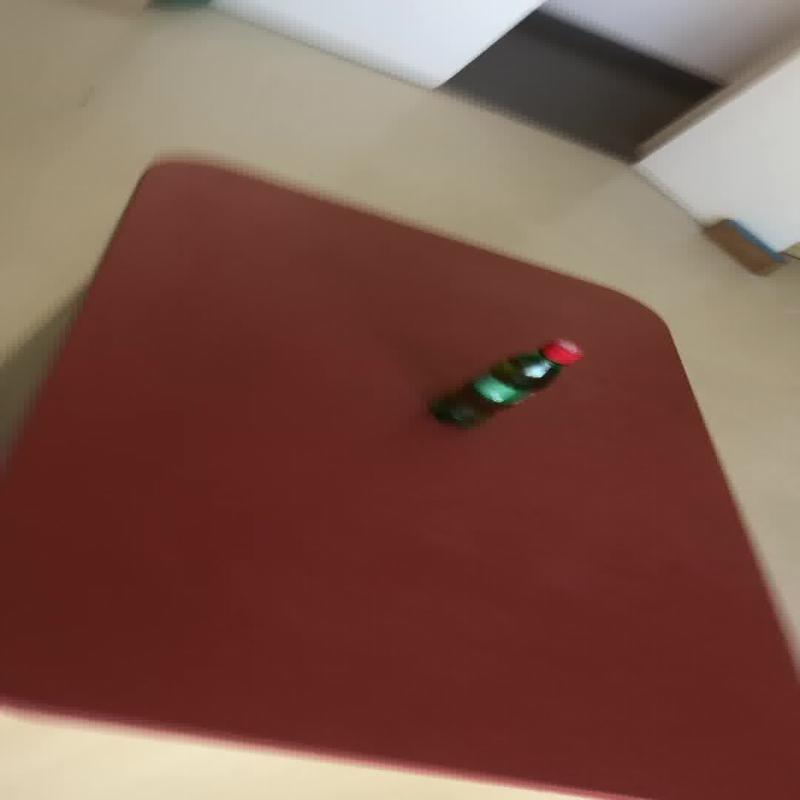guarana: (426, 336, 584, 429), (468, 336, 582, 406)
